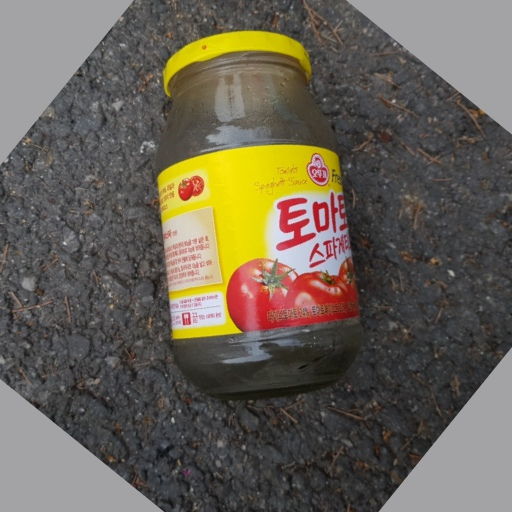Glass_5: (150, 25, 362, 398)
